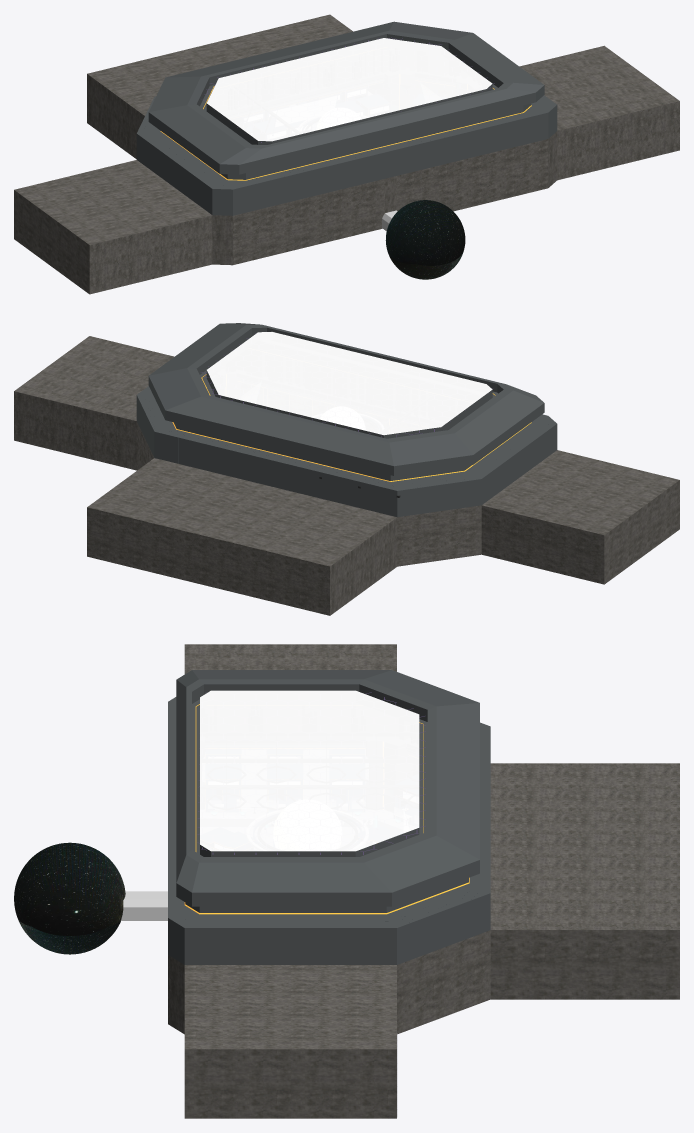
File: BGVexpo001-v1--958772257-v1.glb
The picture shows the model from 3 angles, top to bottom: view 1: azimuth 30°, elevation 25°; view 2: azimuth 150°, elevation 25°; view 3: azimuth 270°, elevation 25°; orthographic projection. The views are drawn at different scales.
Visible parts, largest first — view 1: Plane001_1, Plane031_1, Plane001, Plane031_2, Cube004, Plane001_2; view 2: Plane001_1, Plane031_1, Plane001, Plane031_2, Plane001_2; view 3: Plane001_1, Plane031_1, Plane031_2, Plane001, Cube004, Cube018.
Boxes of the visible parts, bbox=[...] form: Plane001_1: bbox=[14, 14, 679, 294]; Plane031_1: bbox=[148, 21, 544, 174]; Plane001: bbox=[136, 95, 557, 228]; Plane031_2: bbox=[207, 38, 492, 141]; Cube004: bbox=[385, 200, 465, 279]; Plane001_2: bbox=[160, 105, 531, 180]; Plane001_1: bbox=[14, 336, 679, 615]; Plane031_1: bbox=[148, 323, 544, 475]; Plane001: bbox=[136, 386, 557, 517]; Plane031_2: bbox=[207, 332, 492, 435]; Plane001_2: bbox=[172, 422, 531, 481]; Plane001_1: bbox=[168, 644, 679, 1118]; Plane031_1: bbox=[176, 670, 479, 906]; Plane031_2: bbox=[200, 690, 419, 851]; Plane001: bbox=[168, 697, 490, 964]; Cube004: bbox=[14, 842, 125, 954]; Cube018: bbox=[121, 891, 167, 920].
Size of what is drawn, in the model's own units: 143 by 29.4 by 99.36.
Materials: 55 (42 with a texture image).
